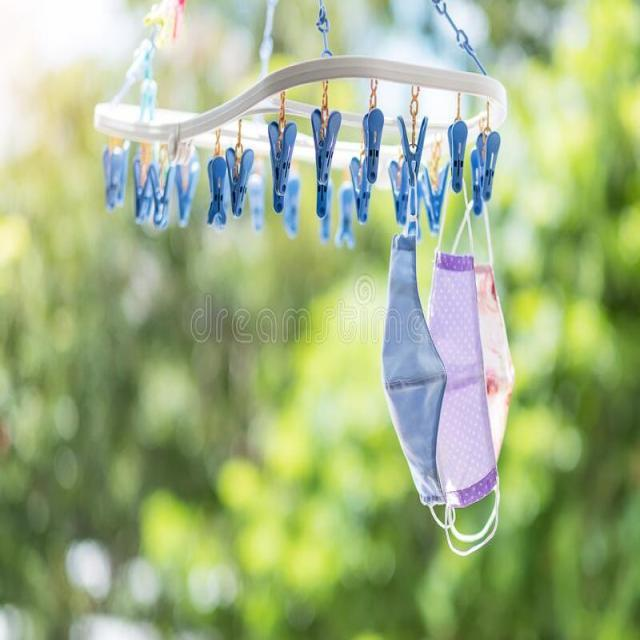clothes: (380, 236, 525, 554)
